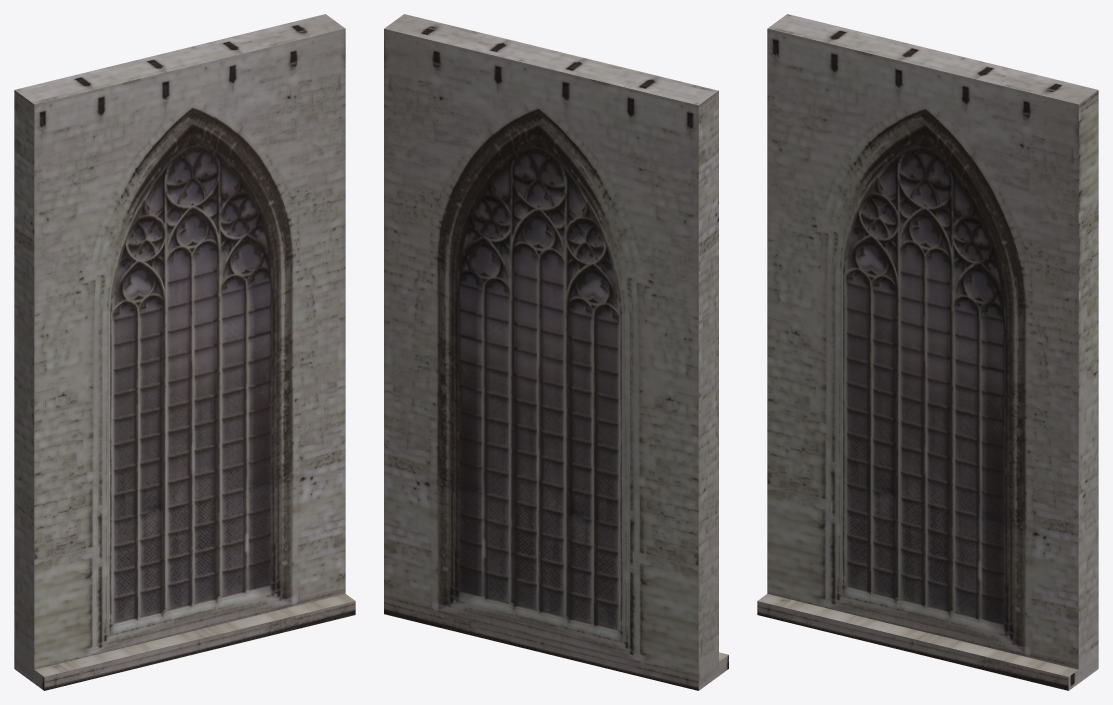
The model's file is Cathedral_Window.FBX.
3 renders of one model, left to right at view 1: azimuth 30°, elevation 25°; view 2: azimuth 150°, elevation 25°; view 3: azimuth 330°, elevation 25°, orthographic.
Visible parts, largest first — view 1: Cathedral_Window; view 2: Cathedral_Window; view 3: Cathedral_Window.
Boxes of the visible parts, bbox=[...] form: Cathedral_Window: bbox=[14, 14, 355, 690]; Cathedral_Window: bbox=[384, 14, 728, 690]; Cathedral_Window: bbox=[757, 14, 1098, 690].
Size of the model in its own units: 576 by 1024 by 96.
